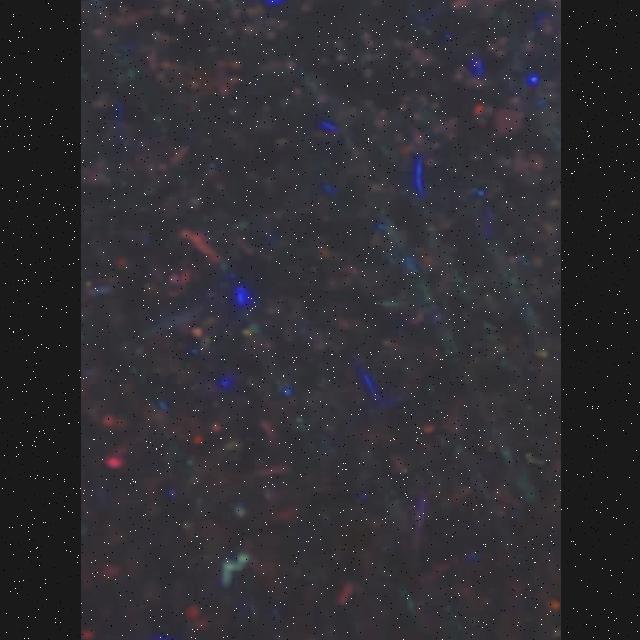Fibre: (220, 550, 247, 588)
